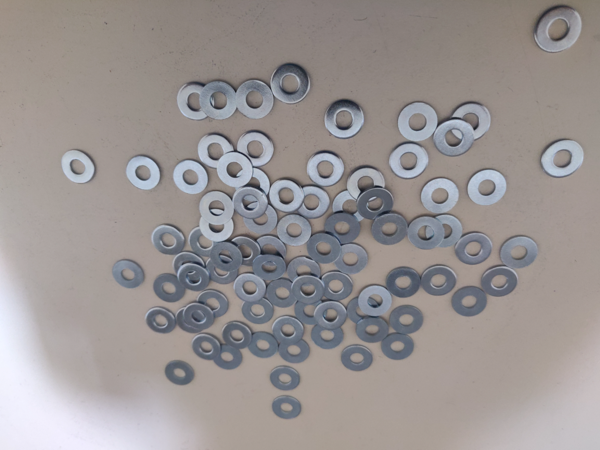circle: (535, 6, 584, 53), (541, 139, 585, 178), (450, 101, 491, 142), (270, 64, 311, 105), (324, 100, 364, 140), (398, 101, 437, 142), (434, 118, 474, 156), (236, 80, 274, 119), (177, 81, 214, 121), (468, 169, 506, 206), (390, 143, 429, 179), (421, 178, 459, 214), (200, 81, 236, 119), (217, 151, 253, 188), (347, 167, 385, 202), (307, 152, 345, 187), (237, 132, 275, 167), (198, 133, 234, 169), (173, 159, 209, 194), (408, 216, 445, 250), (234, 167, 271, 201), (126, 155, 161, 190), (333, 189, 369, 223), (425, 215, 462, 248), (357, 187, 394, 220), (455, 233, 493, 265), (297, 185, 331, 220), (270, 180, 305, 214), (500, 237, 537, 269), (62, 149, 95, 184), (233, 187, 268, 220), (199, 192, 234, 225), (481, 266, 518, 297), (372, 214, 409, 245), (334, 243, 369, 275), (199, 210, 234, 242), (307, 233, 341, 265), (243, 202, 277, 234), (386, 267, 421, 298), (325, 213, 360, 244), (278, 214, 311, 246), (287, 256, 321, 287), (452, 287, 487, 317), (421, 266, 456, 296), (358, 286, 393, 316), (229, 236, 262, 267), (210, 241, 243, 272), (190, 226, 221, 258), (152, 225, 185, 255), (254, 236, 287, 266), (292, 276, 326, 305), (234, 274, 268, 303), (267, 279, 299, 309), (390, 306, 423, 335), (381, 332, 414, 361), (314, 301, 347, 330), (272, 316, 305, 345), (154, 274, 186, 303), (320, 272, 352, 301), (206, 256, 238, 285), (173, 253, 205, 282), (348, 297, 381, 325), (112, 261, 145, 289), (311, 321, 344, 349), (222, 321, 253, 350), (197, 290, 229, 318), (178, 264, 210, 292), (356, 316, 389, 343), (252, 254, 286, 280), (295, 297, 325, 326), (243, 296, 273, 325), (145, 307, 177, 334), (247, 332, 278, 359), (342, 346, 374, 372), (192, 333, 221, 361), (212, 344, 243, 370), (175, 308, 206, 334), (279, 338, 311, 363), (183, 304, 215, 329), (165, 361, 195, 386), (271, 367, 301, 391), (273, 397, 302, 420)
